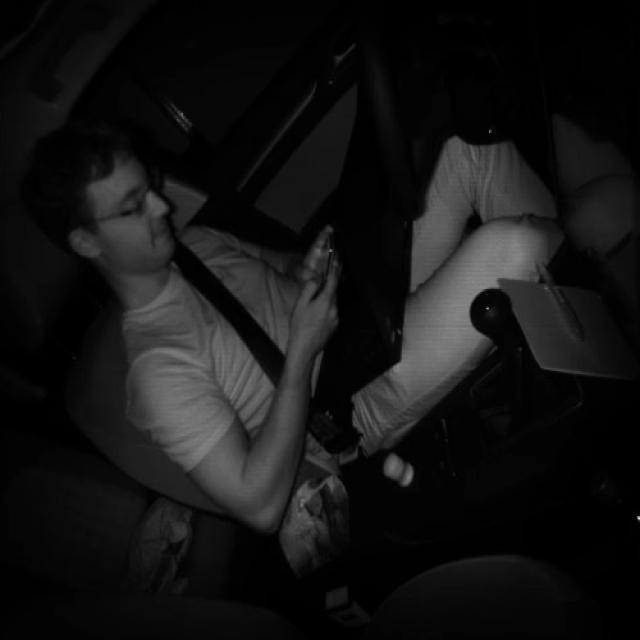pen: (532, 255, 588, 344)
